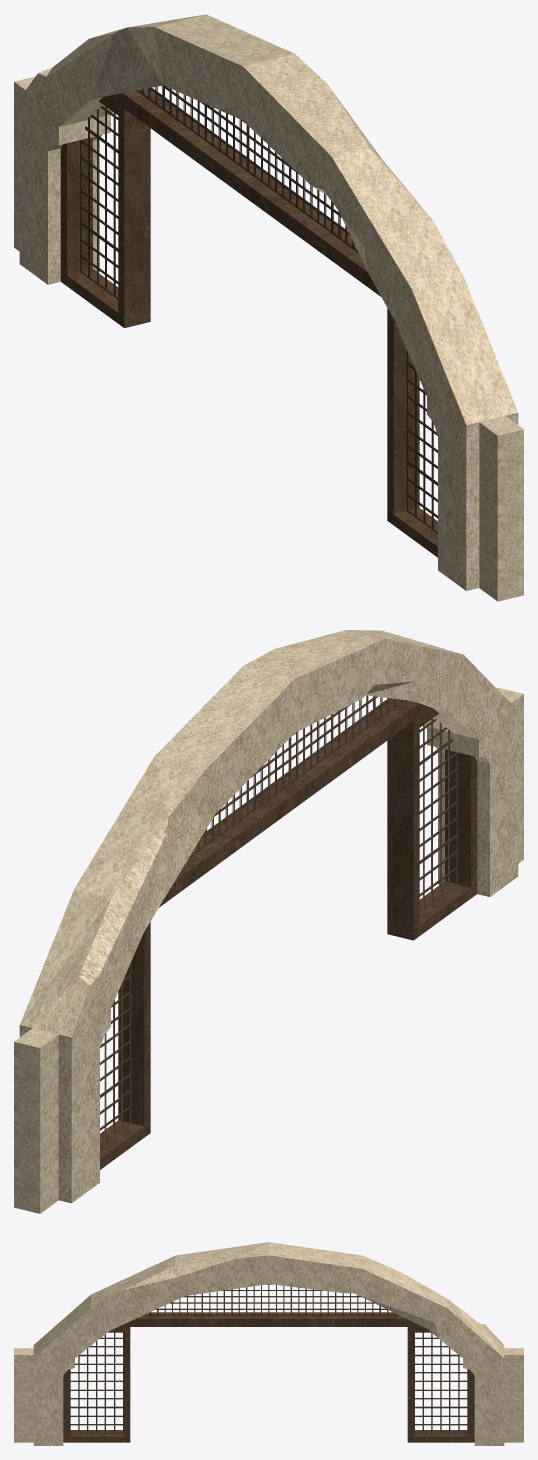
File: thm_tato_imprv_wallgate_wide_s01_l1.fbx
3 renders of one model, top to bottom at view 1: azimuth 30°, elevation 25°; view 2: azimuth 150°, elevation 25°; view 3: azimuth 270°, elevation 25°, orthographic. The views are drawn at different scales.
Visible parts, largest first — view 1: mesh_node; view 2: mesh_node; view 3: mesh_node.
Part boxes in pixels (box(x1,y1,x2,y2)): mesh_node: box(14, 14, 523, 601); mesh_node: box(14, 630, 523, 1213); mesh_node: box(14, 1242, 523, 1445).
Size of the model in its own units: 0.9899 by 6.59 by 16.
